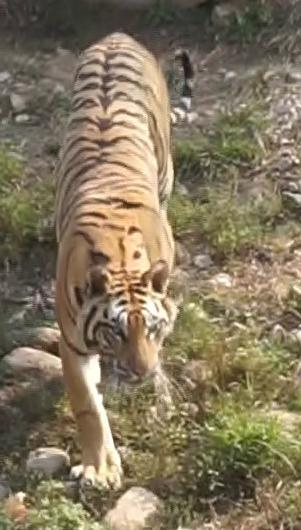tiger: (56, 32, 176, 488)
